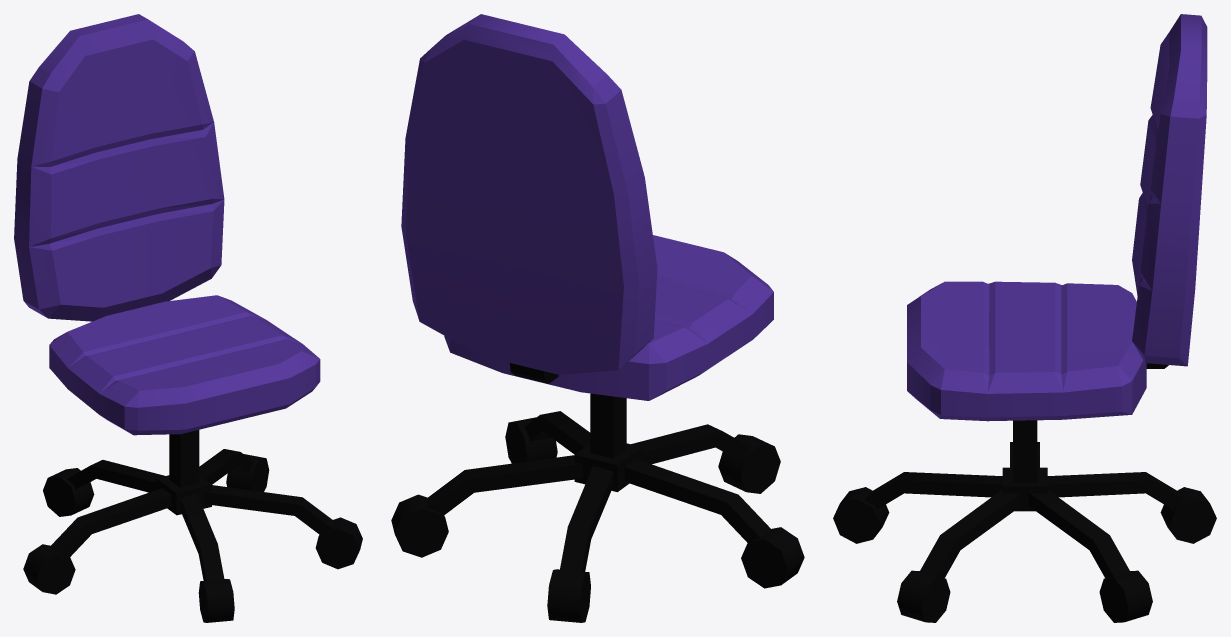
Rendered from pc_chair4.fbx.
3 views of the same model, side by side, from view 1: azimuth 30°, elevation 25°; view 2: azimuth 150°, elevation 25°; view 3: azimuth 270°, elevation 25° (orthographic). The views are drawn at different scales.
Parts seen in each view (by area): view 1: pc_chair4; view 2: pc_chair4; view 3: pc_chair4.
Part boxes in pixels (x1,y1,x2,y2): pc_chair4: (14, 14, 362, 622); pc_chair4: (391, 14, 804, 622); pc_chair4: (833, 14, 1216, 622).
Bounding box in the file's own units: 61.56 × 98.17 × 64.72.
